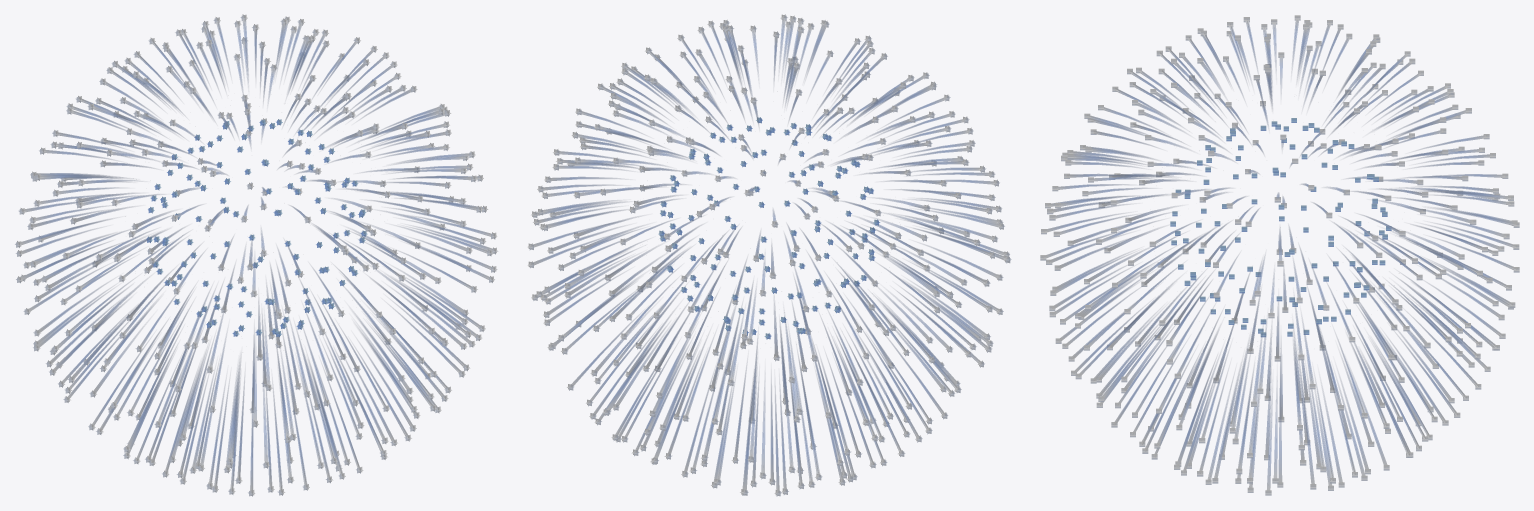
File: fw_peony_blue_silver_b.glb
3 renders of one model, left to right at view 1: azimuth 30°, elevation 25°; view 2: azimuth 150°, elevation 25°; view 3: azimuth 270°, elevation 25°, orthographic.
Visible parts, largest first — view 1: spire; view 2: spire; view 3: spire.
Part boxes in pixels (left/top/right/bottom): spire: left=15, top=14, right=498, bottom=496; spire: left=527, top=14, right=1011, bottom=496; spire: left=1040, top=15, right=1519, bottom=495.
Bounding box in the file's own units: 22.16 × 22.19 × 22.14.
Materials: 2 (2 with a texture image).
